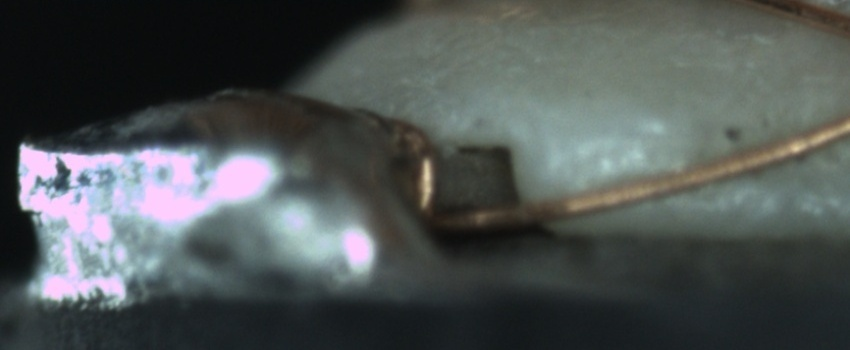TE: (363, 102, 445, 231)
